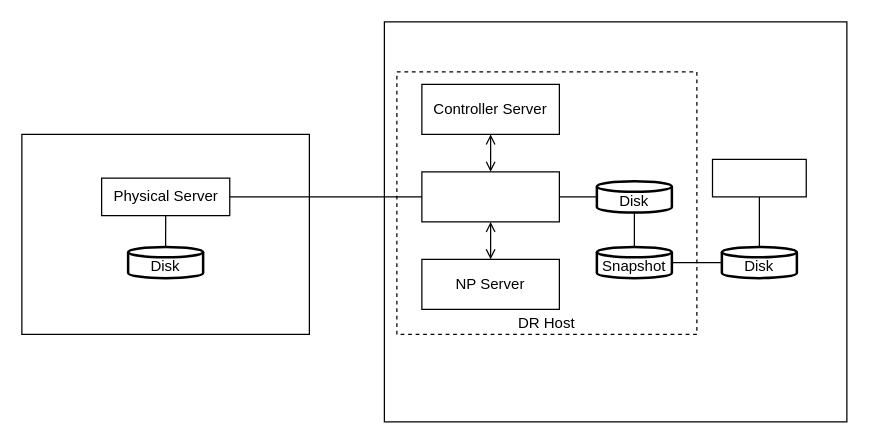
Some shapes in this 869 by 444 pixel diagram are drawn without their labels. Here are the shapes that lost their labels. From the top down, the box of each, then its label:
(421, 171, 559, 222): Backup Server
(711, 158, 806, 197): ECS
(21, 133, 309, 334): On-Premise
(383, 21, 847, 422): HUAWEI CLOUD
